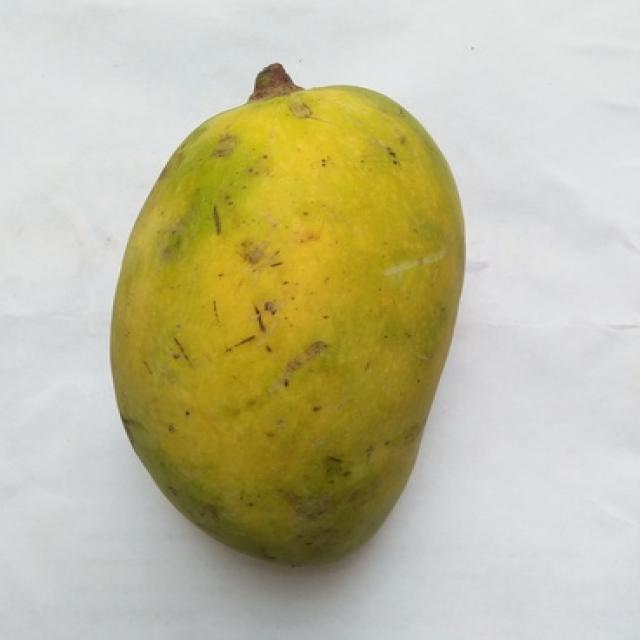Mango: (111, 64, 461, 563)
